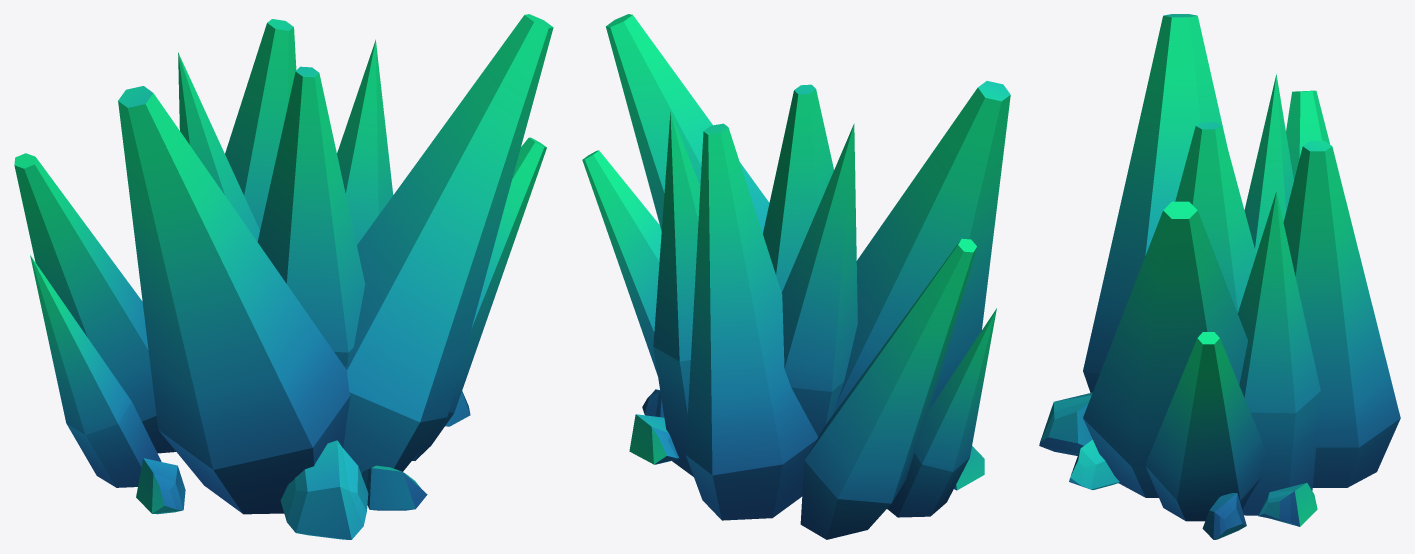
Rendered from mesh_mithril.fbx.
The picture shows the model from 3 angles, left to right: view 1: azimuth 30°, elevation 25°; view 2: azimuth 150°, elevation 25°; view 3: azimuth 270°, elevation 25°; orthographic projection. The views are drawn at different scales.
Parts seen in each view (by area): view 1: resource_mithil; view 2: resource_mithil; view 3: resource_mithil.
Part boxes in pixels (box(x1,y1,x2,y2)): resource_mithil: box(14, 14, 553, 539); resource_mithil: box(582, 14, 1010, 539); resource_mithil: box(1039, 14, 1400, 539).
Bounding box in the file's own units: 3.43 × 2.94 × 2.53.
